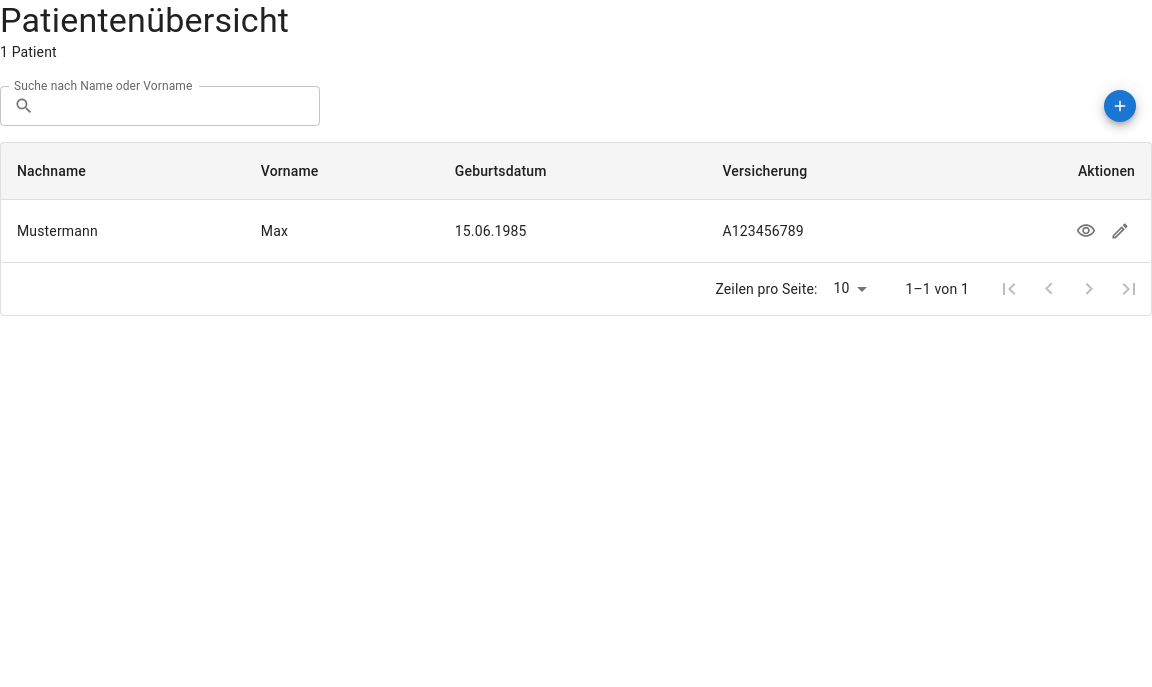
Test: Overview › Bearbeiten › Speichern-Button und Pflichtfelder › deaktiviert Speichern, wenn Vorname geleert wird, und aktiviert ihn beim Wiederherstellen
This screenshot has width=1152, height=687.
Step 1. Click the button named "Patient bearbeiten" → {"x": 1120, "y": 231}, box [1105,216,1135,246]
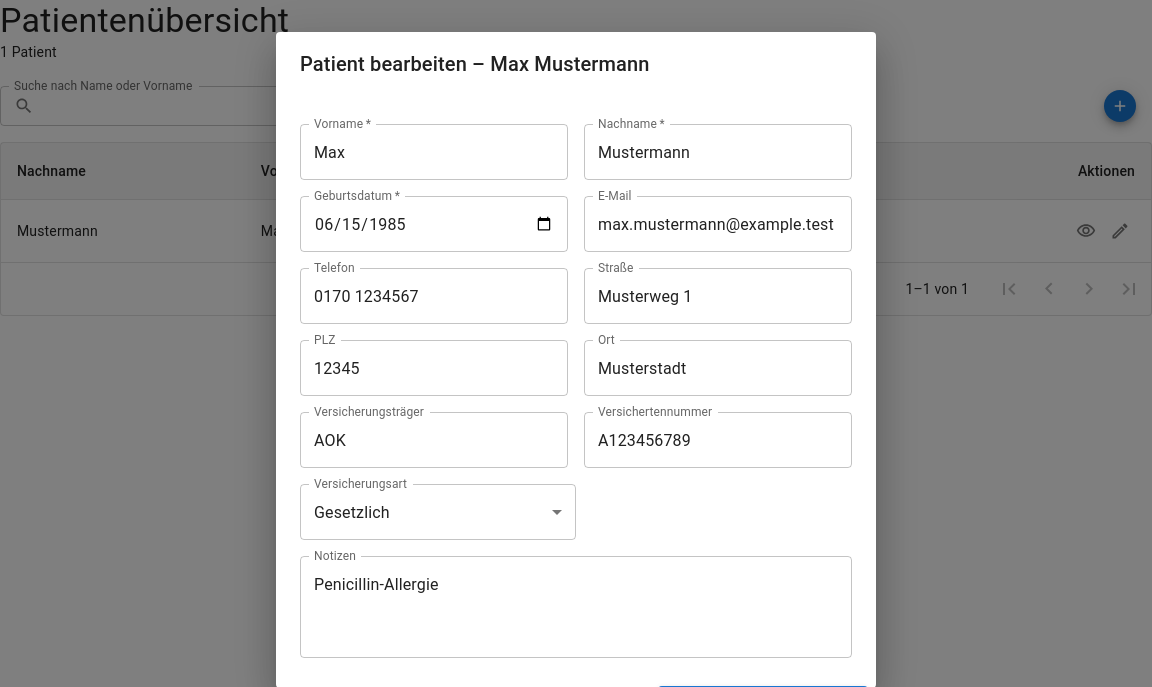
Check: the field showing "max.mustermann@example.test" is shown, box [584,196,852,252]
Step 2. Clear the field labelled "Vorname *" → {"x": 434, "y": 152}, box [300,124,568,180]
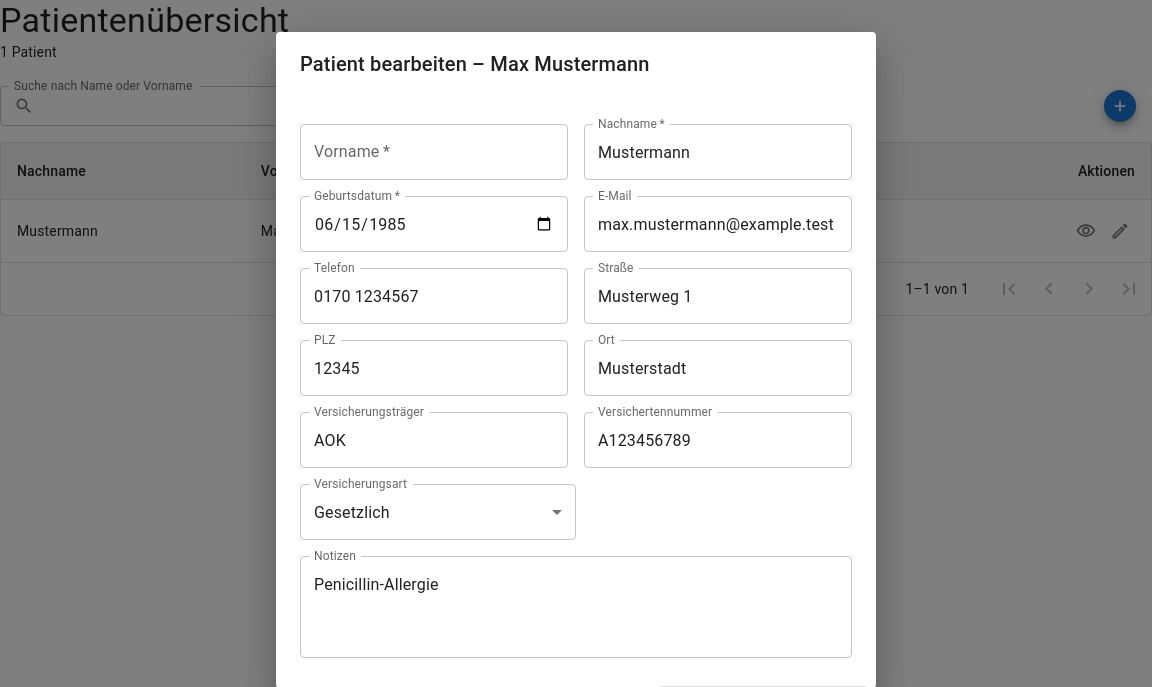
Step 3. Type "Max" into the field labelled "Vorname *" → {"x": 434, "y": 152}, box [300,124,568,180]
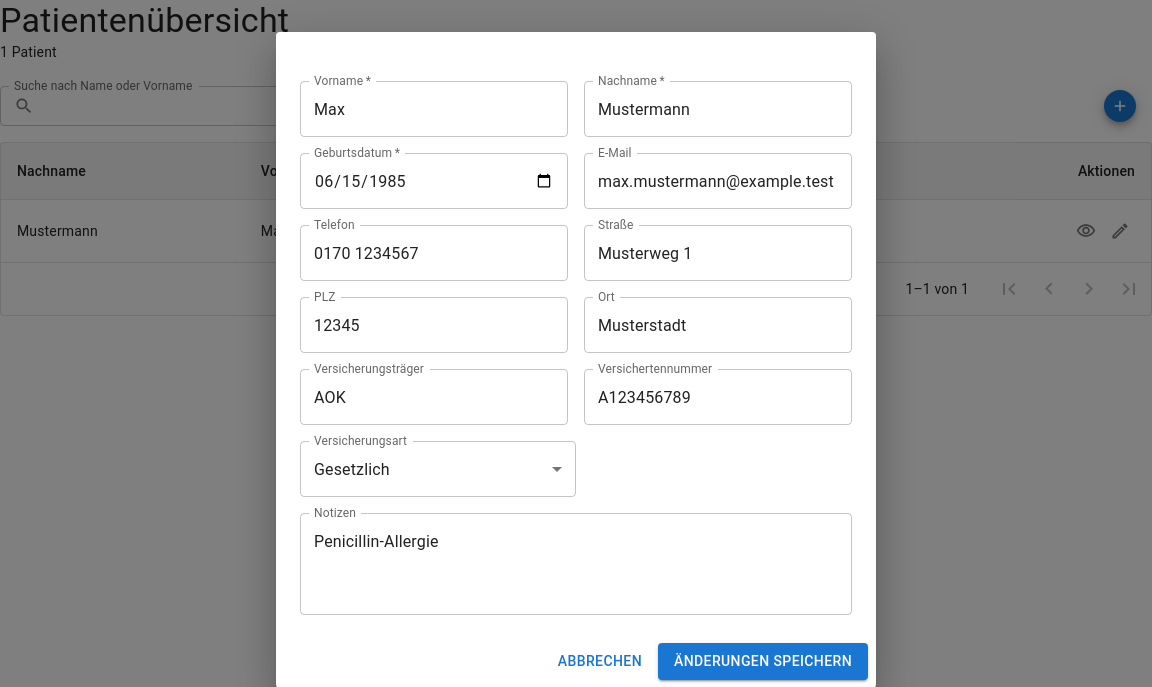
Check: the button "Änderungen speichern" is enabled, box [658,643,868,680]
